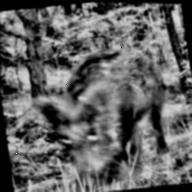boar: (7, 13, 179, 186)
